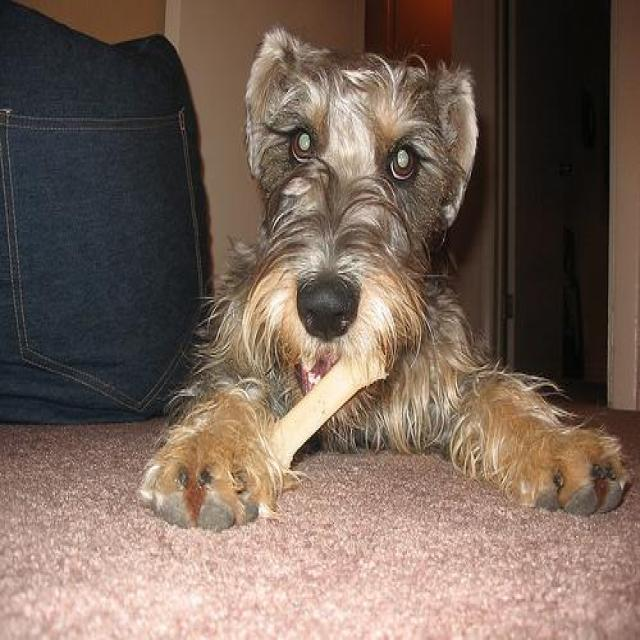standard_schnauzer: (125, 27, 635, 534)
